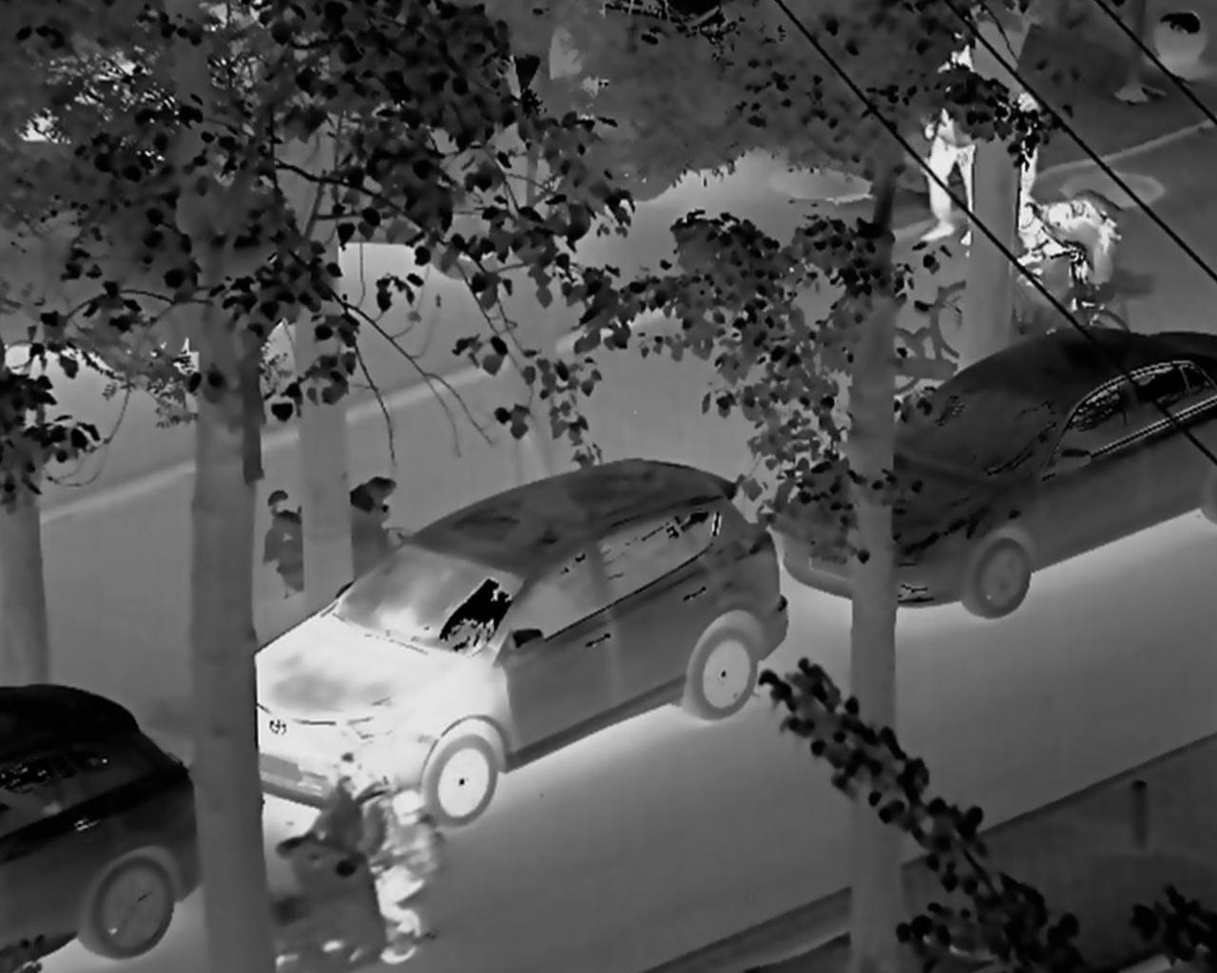person: (281, 744, 399, 964), (912, 23, 983, 261), (380, 788, 457, 946), (1016, 197, 1120, 286)
